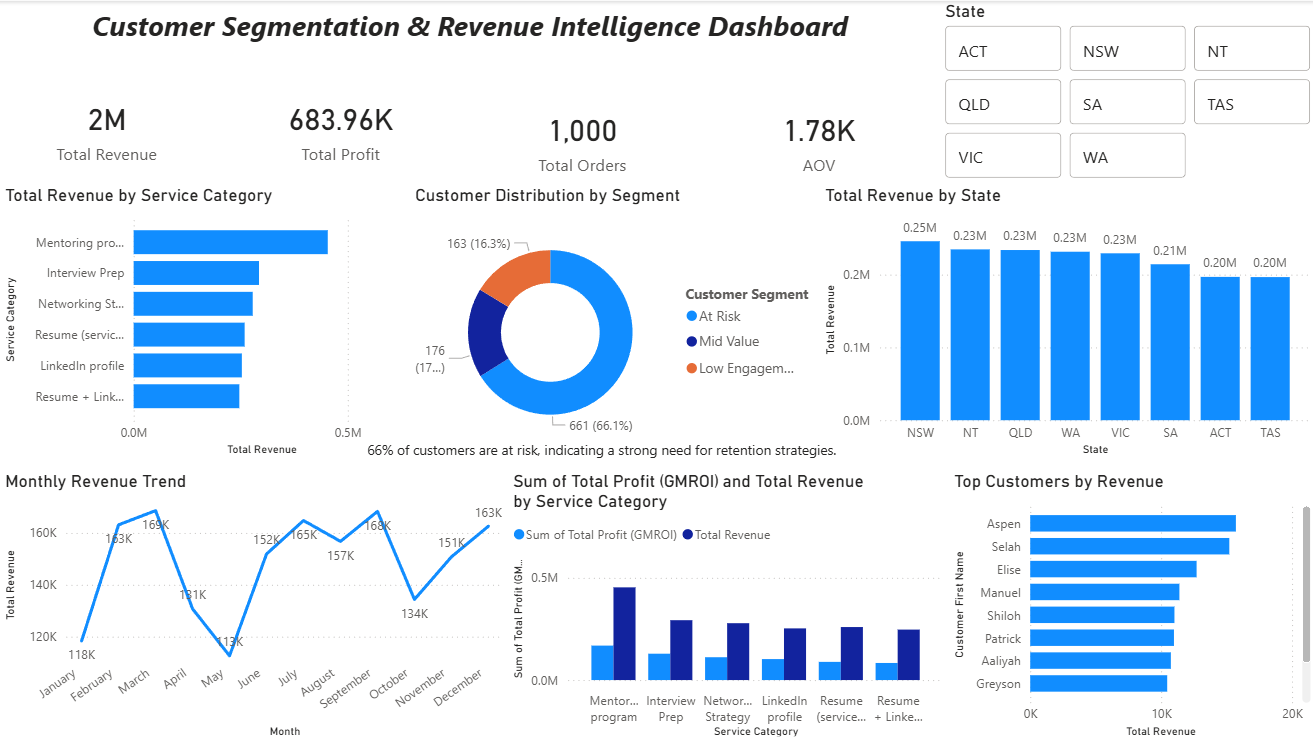

The page's visual inventory and layout, read from the dashboard file:
{"tool":"powerbi","page":{"name":"Overview","canvas":[1280,720],"ordinal":0},"visuals":[{"type":"card","fields":{"Values":["Sales.Total Revenue"]},"box":[0,68.9,207.8,110],"z":0},{"type":"card","fields":{"Values":["Sales.Total Profit"]},"box":[207.8,68.9,246.7,110],"z":1},{"type":"card","fields":{"Values":["Sales.Total Orders"]},"box":[454.4,90,224.4,88.9],"z":2},{"type":"card","fields":{"Values":["Sales.AOV"]},"box":[678.9,90,235.6,88.9],"z":3},{"type":"clusteredBarChart","fields":{"Category":["Sales.Service Category"],"Y":["Sales.Total Revenue"]},"box":[0,178.9,398.9,267.8],"z":4},{"type":"donutChart","title":"Customer Distribution by Segment","fields":{"Category":["Sales.Customer Segment"],"Y":["CountNonNull(Sales.Customer ID)"]},"box":[398.9,178.9,398.9,267.8],"z":5},{"type":"lineChart","title":"Monthly Revenue Trend","fields":{"Y":["Sales.Total Revenue"],"Category":["Sales.Order Date.Variation.Date Hierarchy.Month"]},"box":[0,456.7,494.4,263.3],"z":6},{"type":"columnChart","fields":{"Category":["Sales.State"],"Y":["Sales.Total Revenue"]},"box":[797.8,178.9,482.2,267.8],"z":7},{"type":"clusteredColumnChart","fields":{"Category":["Sales.Service Category"],"Y":["Sum(Sales.Total Profit (GMROI))","Sales.Total Revenue"]},"box":[494.4,456.7,428.9,263.3],"z":8},{"type":"barChart","title":"Top Customers by Revenue","fields":{"Category":["Sales.Customer First Name"],"Y":["Sales.Total Revenue"]},"box":[923.3,456.7,356.7,263.3],"z":9},{"type":"advancedSlicerVisual","fields":{"Values":["Sales.State"]},"box":[914.4,0,365.6,178.9],"z":10},{"type":"textbox","box":[0,0,914.4,90],"z":11},{"type":"textbox","box":[352.2,422.2,483.3,34.4],"z":12}]}

Visuals, with their boxes in screenshot pixels (x1, y1, x2, y2), scaled from the page's 1280x720 canvas onto the 1313x741 screenshot:
card - Sales.Total Revenue: 0/71/213/184
card - Sales.Total Profit: 213/71/466/184
card - Sales.Total Orders: 466/93/696/184
card - Sales.AOV: 696/93/938/184
clusteredBarChart - Sales.Service Category x Sales.Total Revenue: 0/184/409/460
"Customer Distribution by Segment" donutChart: 409/184/818/460
"Monthly Revenue Trend" lineChart: 0/470/507/740
columnChart - Sales.State x Sales.Total Revenue: 818/184/1312/460
clusteredColumnChart - Sales.Service Category x Sum(Sales.Total Profit (GMROI)): 507/470/947/740
"Top Customers by Revenue" barChart: 947/470/1312/740
advancedSlicerVisual - Sales.State: 938/0/1312/184
textbox: 0/0/938/93
textbox: 361/435/857/470
